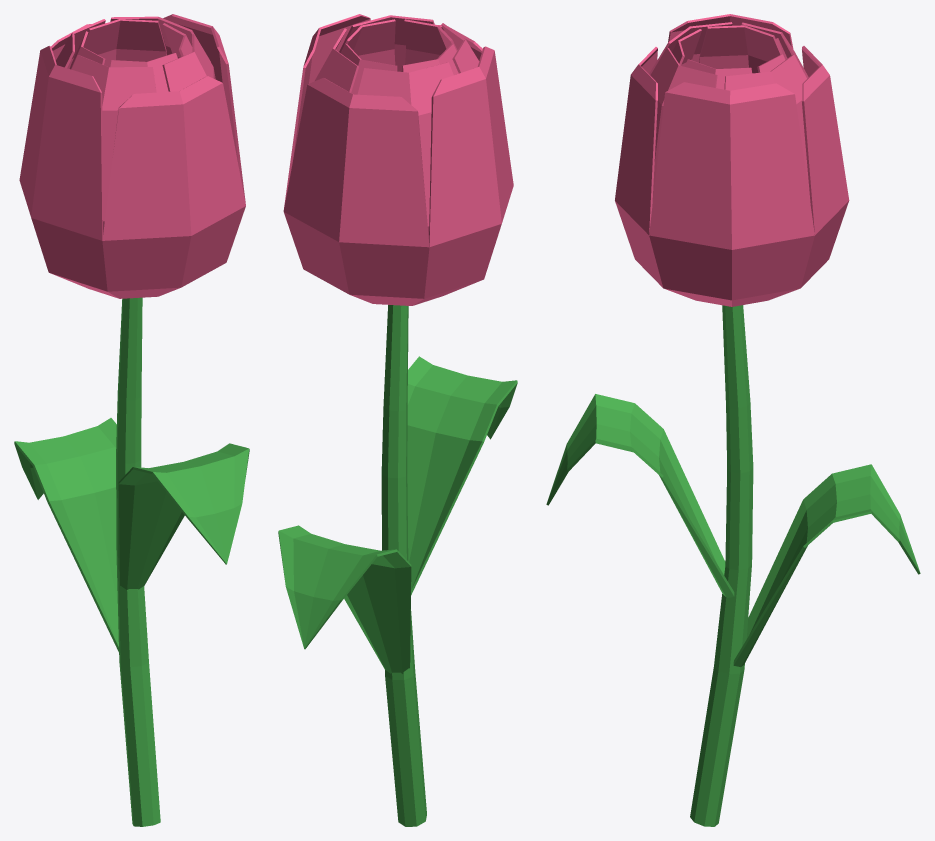
File: Tulip.glb
The picture shows the model from 3 angles, left to right: view 1: azimuth 30°, elevation 25°; view 2: azimuth 150°, elevation 25°; view 3: azimuth 270°, elevation 25°; orthographic projection.
Visible parts, largest first — view 1: Tulip_01_Circle.003; view 2: Tulip_01_Circle.003; view 3: Tulip_01_Circle.003.
Part boxes in pixels (x1,y1,x2,y2): Tulip_01_Circle.003: (14, 14, 249, 826); Tulip_01_Circle.003: (278, 14, 517, 826); Tulip_01_Circle.003: (546, 14, 920, 826).
Size of the model in its own units: 2.94 by 10.75 by 4.7.
